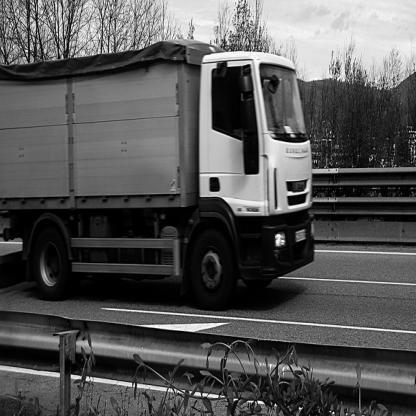truck: (1, 44, 326, 313)
